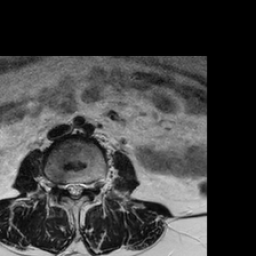CCS_stenosis: (72, 175, 78, 204)
LFS_severe_stenosis: (86, 177, 92, 195)
LLS_normal: (78, 178, 85, 198)
RFS_severe_stenosis: (58, 175, 66, 194)
RLS_normal: (66, 178, 73, 197)
